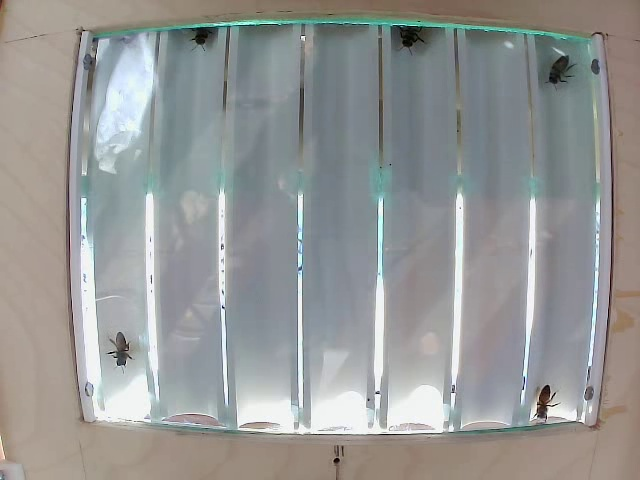bee: (101, 314, 138, 370), (543, 54, 572, 101), (192, 34, 228, 65), (400, 26, 421, 60)
